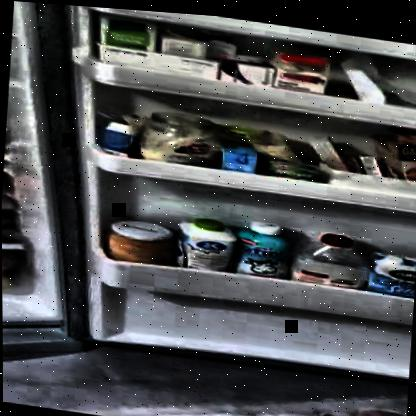heavy_cream: (219, 138, 260, 170)
milk: (176, 213, 237, 270), (369, 245, 416, 292)
